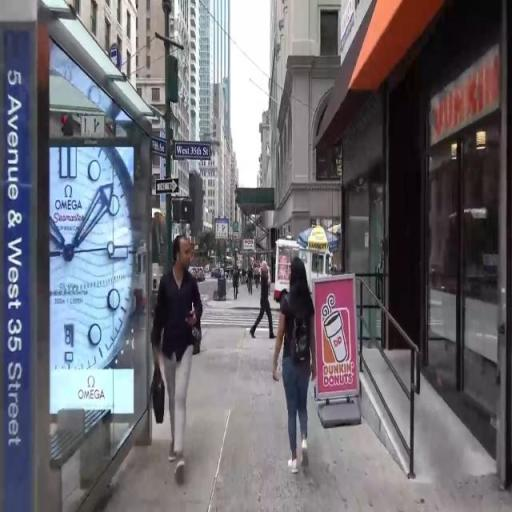person: (153, 236, 204, 485), (274, 259, 317, 474), (251, 263, 276, 340), (233, 267, 240, 301)
